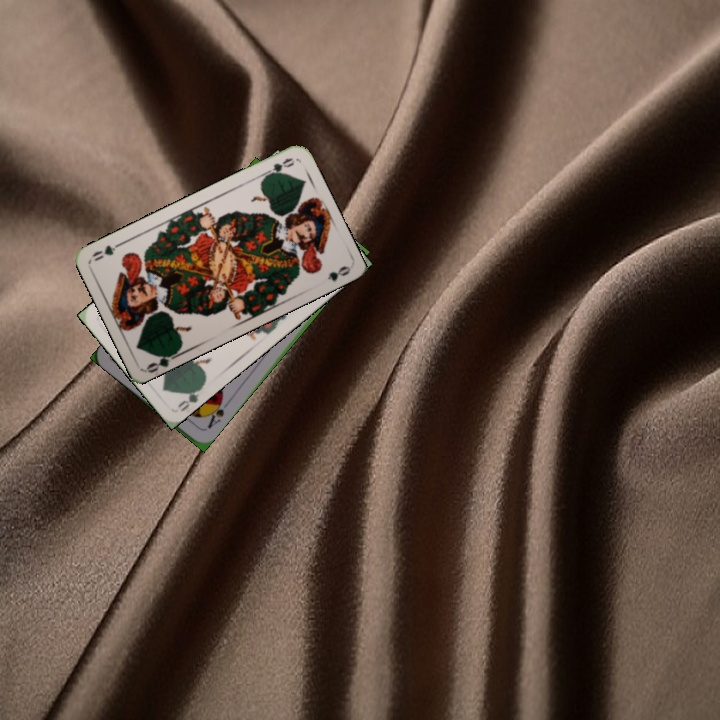GO: (258, 153, 297, 181), (174, 381, 206, 414), (143, 347, 182, 374)
SA: (201, 395, 227, 432)
